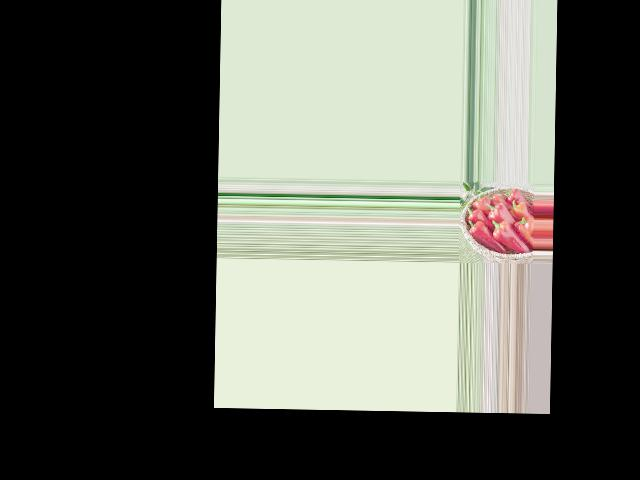bell_pepper: (464, 206, 485, 223)
